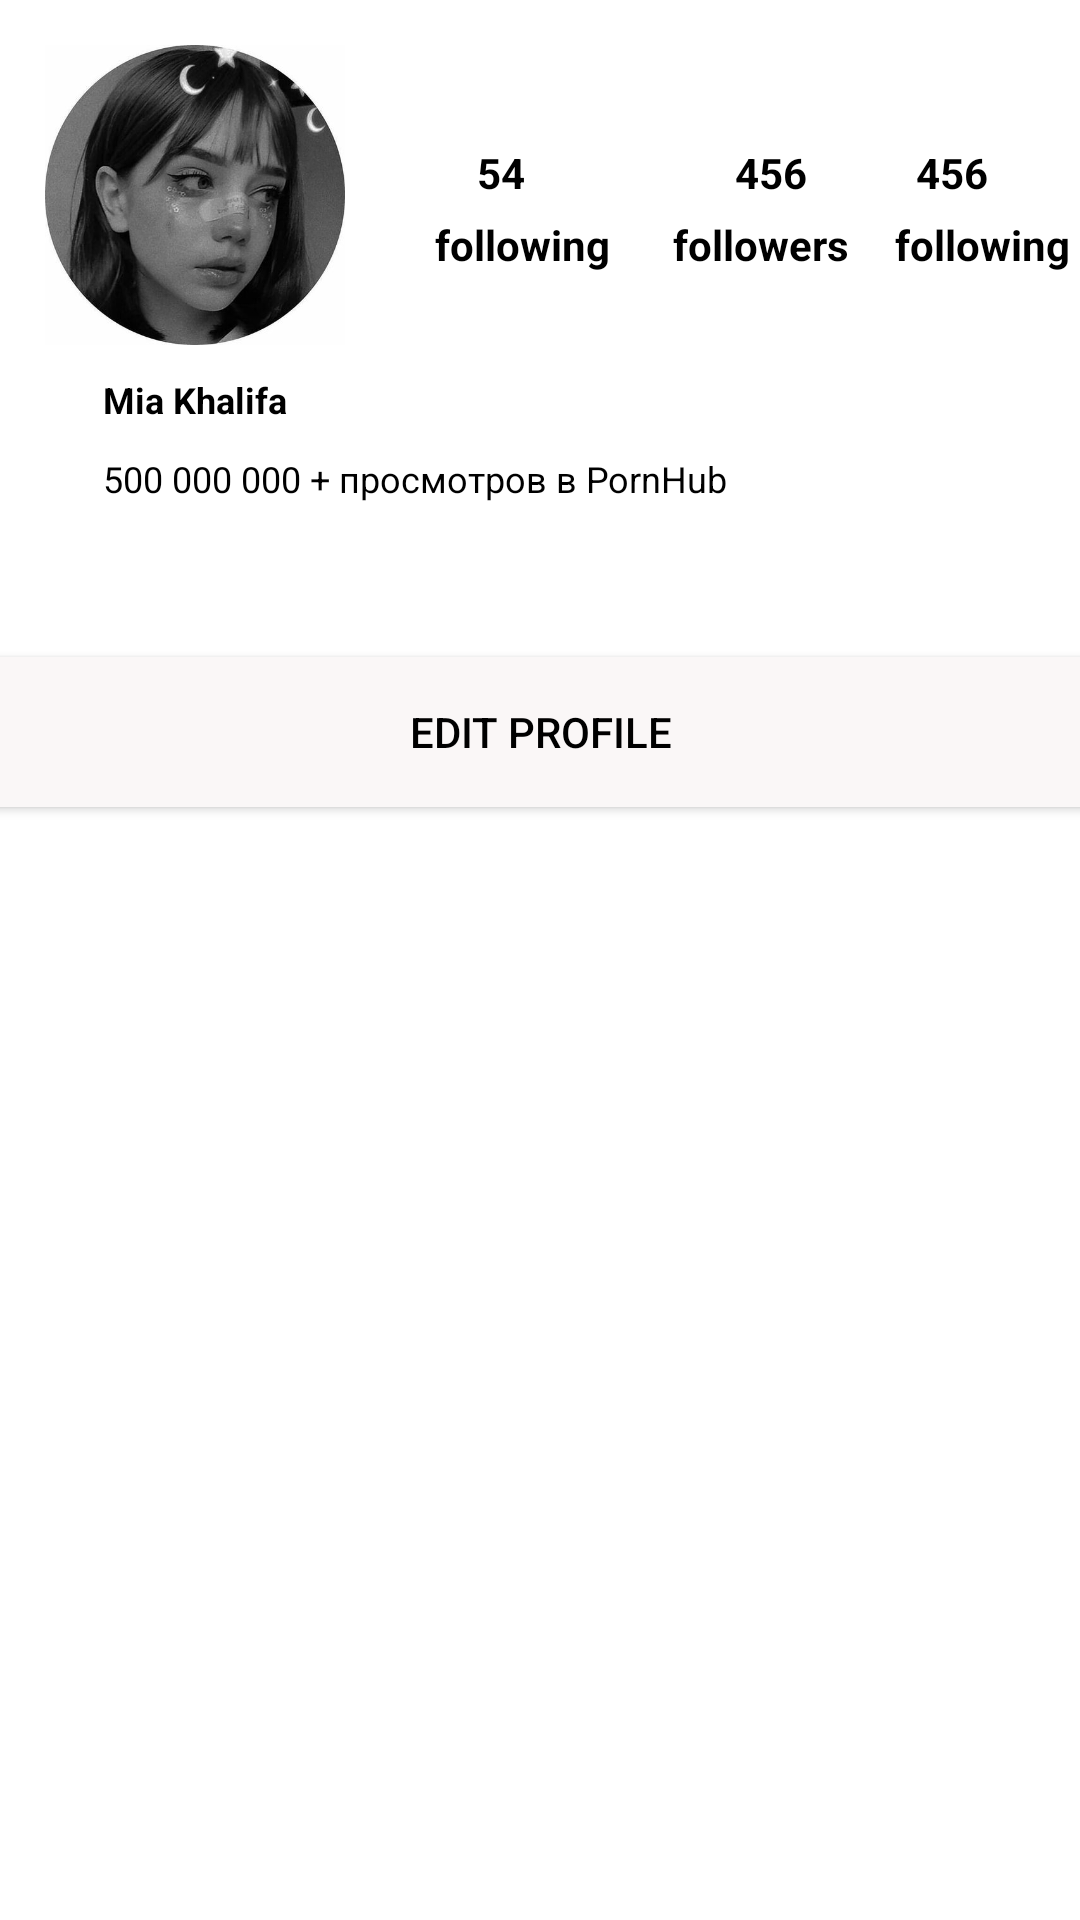

Screen size 1080x1920. Icon name, then its center in pixels as [x,y]:
profil: [195,195]
